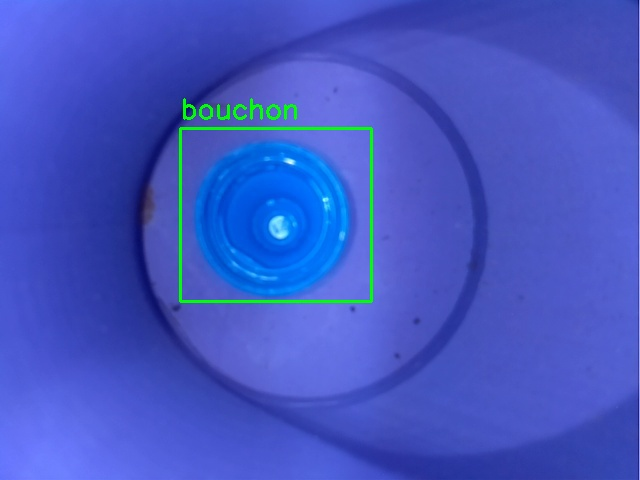bouchon: (180, 128, 371, 301)
